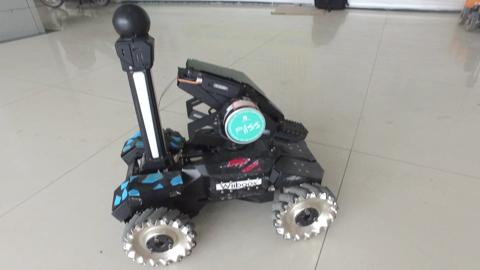chariot: (108, 2, 339, 267)
